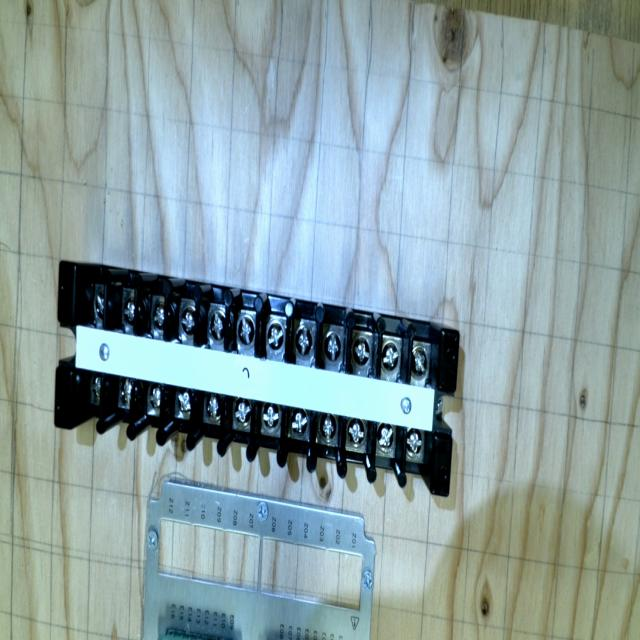Phillips_Block: (32, 261, 477, 496)
